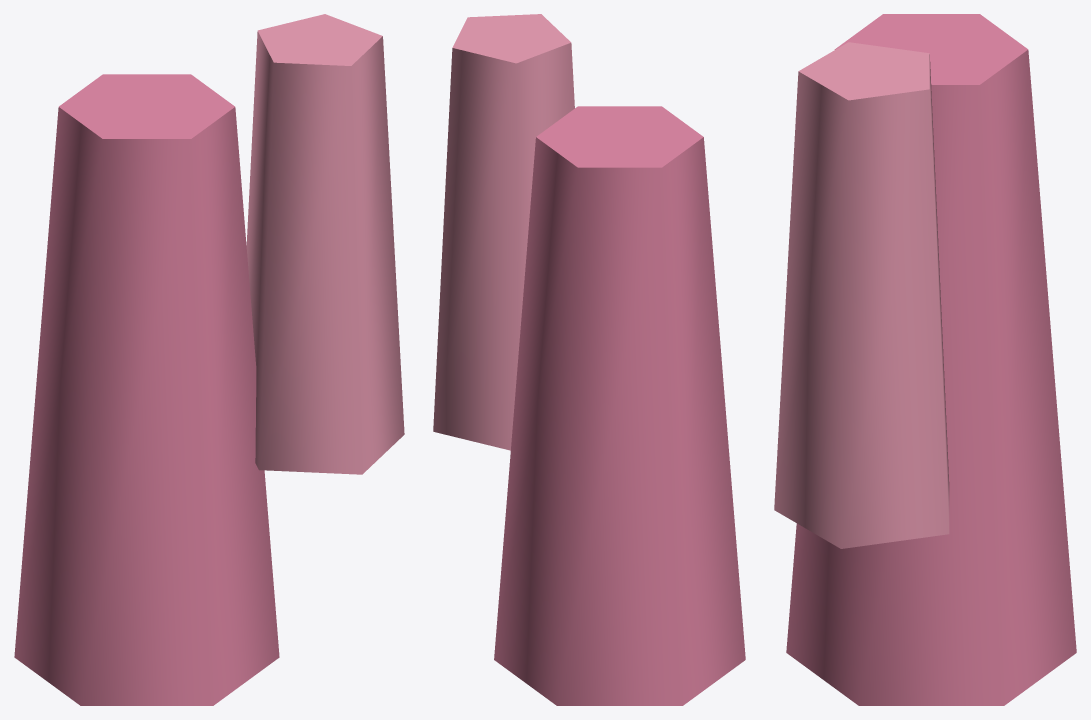
The model's file is coral_piece.glb.
3 views of the same model, side by side, from view 1: azimuth 30°, elevation 25°; view 2: azimuth 150°, elevation 25°; view 3: azimuth 270°, elevation 25° (orthographic). The views are drawn at different scales.
Parts seen in each view (by area): view 1: coral_piece; view 2: coral_piece; view 3: coral_piece.
Part boxes in pixels (bbox=[...]): coral_piece: bbox=[14, 14, 404, 705]; coral_piece: bbox=[433, 14, 745, 705]; coral_piece: bbox=[774, 14, 1076, 705].
Size of the model in its own units: 0.33 by 0.6 by 0.25.
